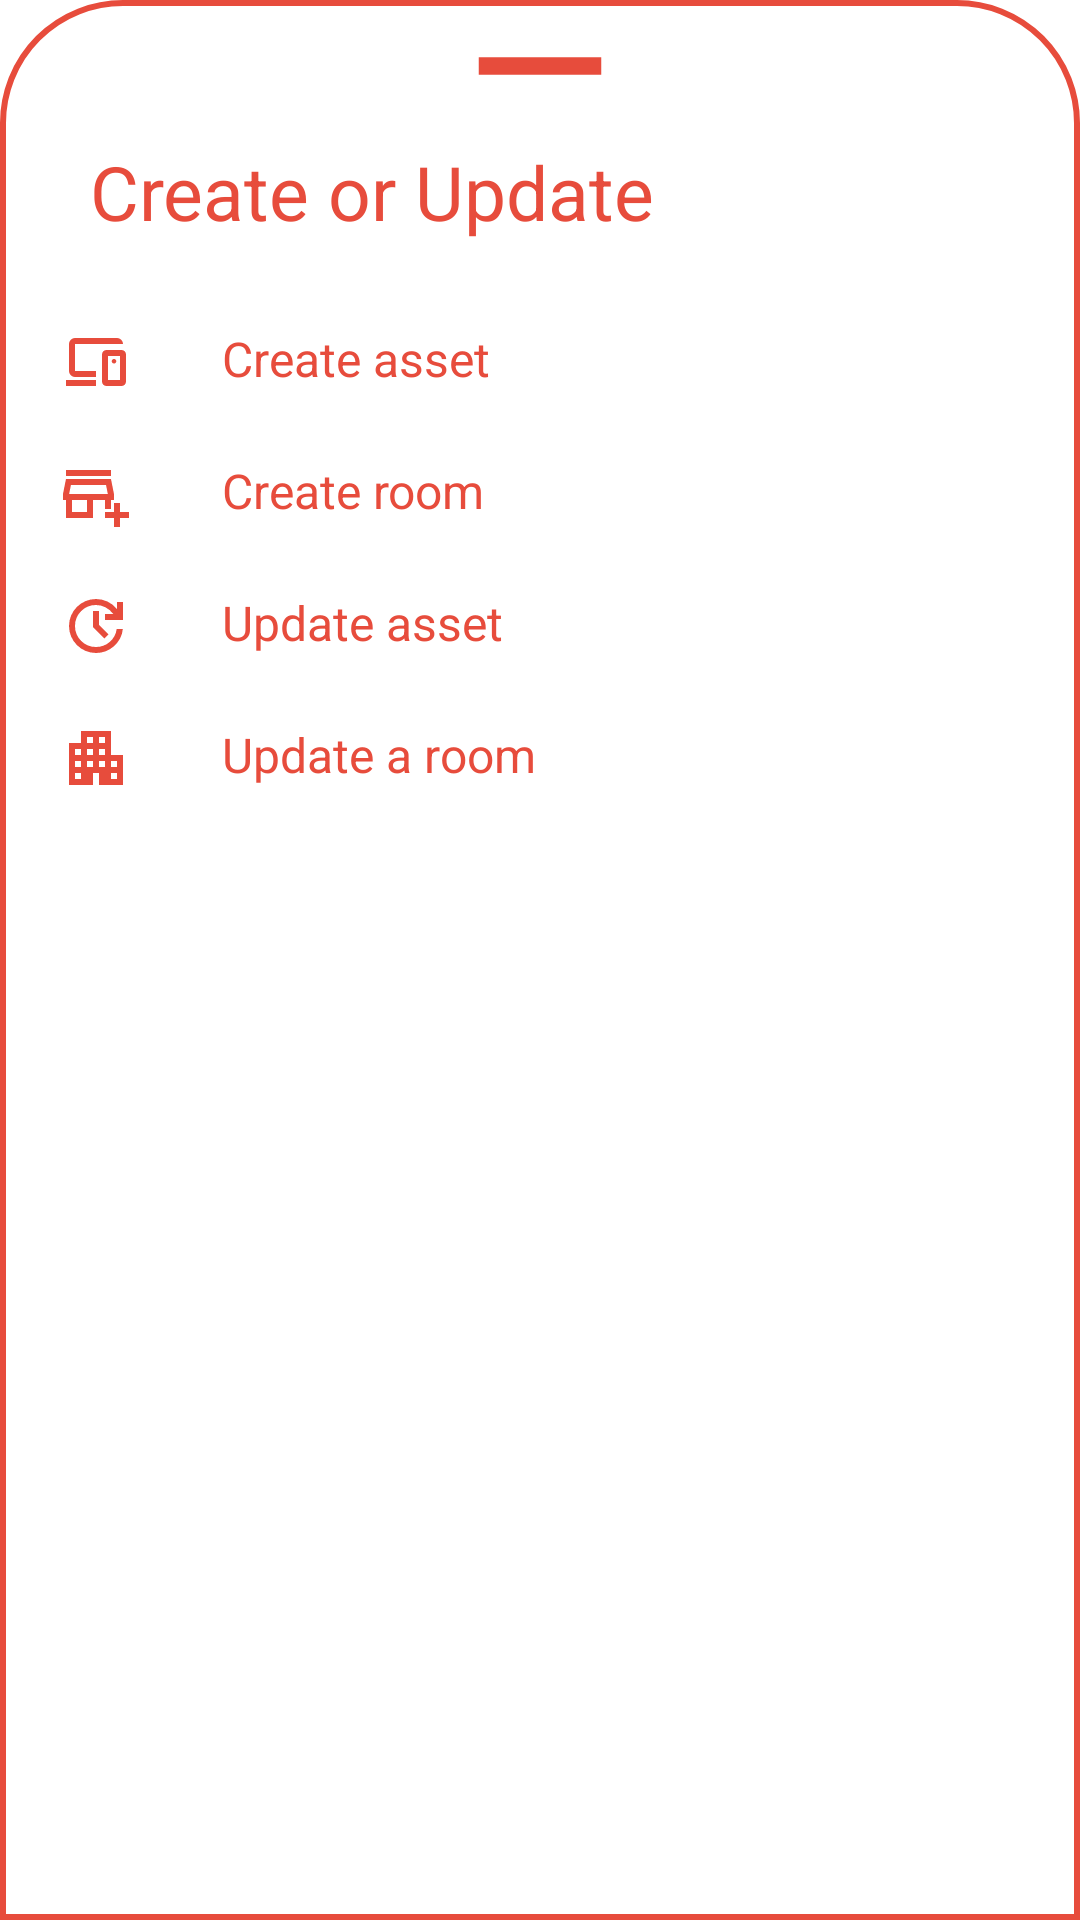

Icons on this 1080*1920 Android screen, each with its box as (left=x1, top=y1, right=x2, bottom=y2):
add business: (left=63, top=470, right=129, bottom=527)
apartment: (left=69, top=731, right=123, bottom=785)
devices: (left=66, top=338, right=126, bottom=386)
